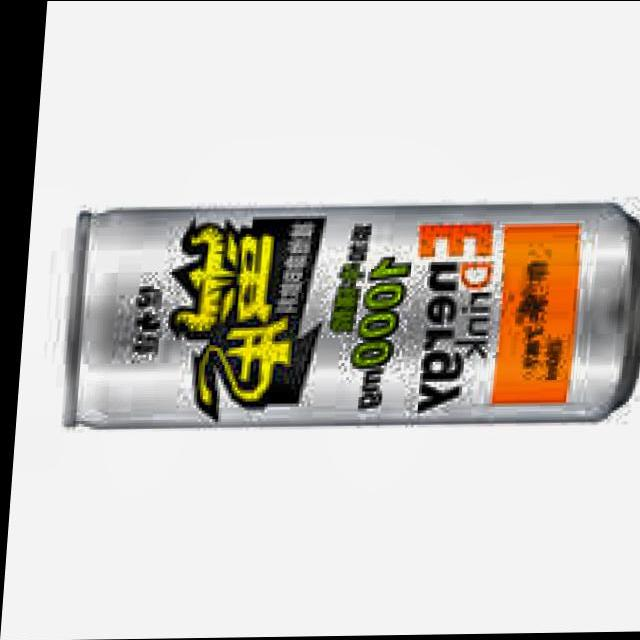litter: (43, 195, 640, 442)
